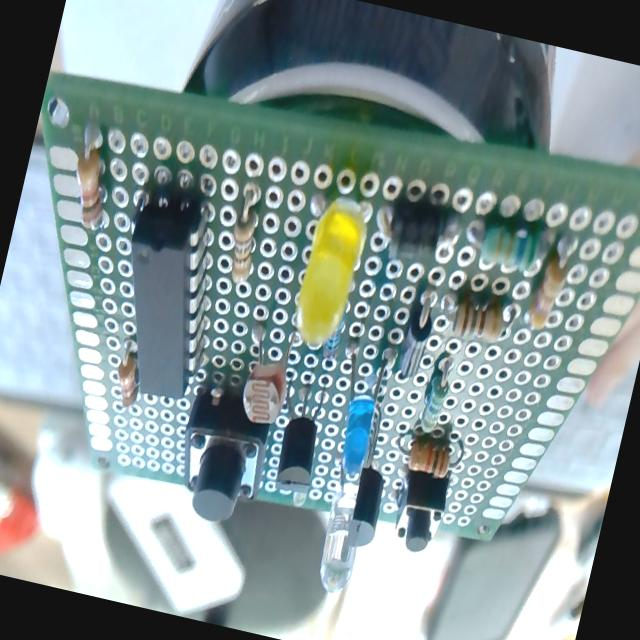IC: (113, 187, 230, 386)
cds: (222, 320, 308, 434)
diode: (365, 192, 467, 274), (388, 281, 446, 390)
led: (319, 340, 397, 480), (306, 472, 372, 600)
resistor: (52, 122, 129, 238), (214, 180, 275, 298), (456, 208, 552, 278), (524, 226, 578, 338), (432, 286, 520, 352), (386, 428, 472, 487), (99, 334, 152, 420), (416, 352, 456, 444)
switch: (158, 389, 278, 534), (378, 473, 459, 562)
transistor: (260, 371, 339, 502), (342, 421, 401, 555)
